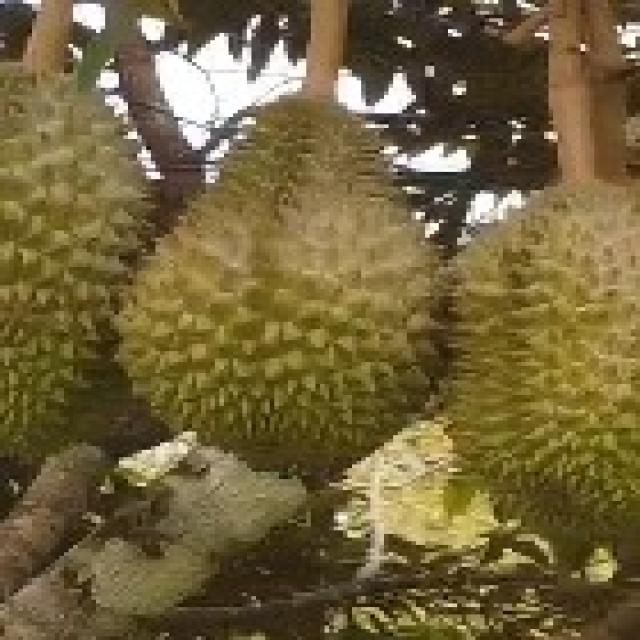immature: (113, 90, 458, 486)
